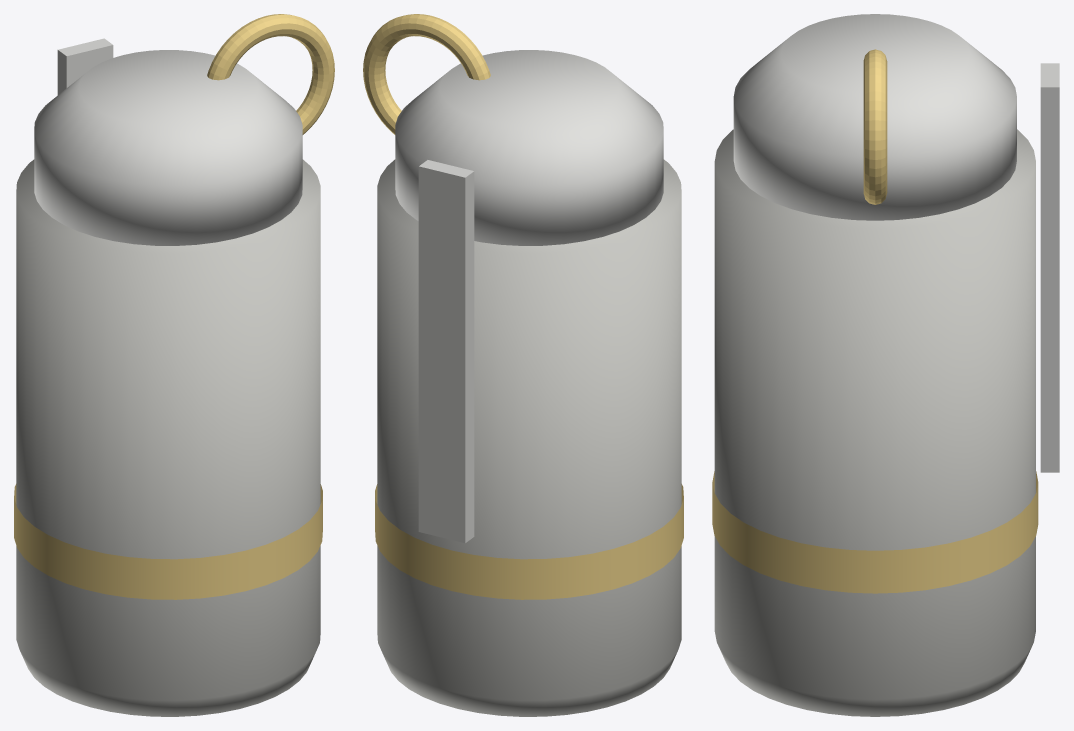
The model's file is smoke-grenade.glb.
3 views of the same model, side by side, from view 1: azimuth 30°, elevation 25°; view 2: azimuth 150°, elevation 25°; view 3: azimuth 270°, elevation 25° (orthographic). The views are drawn at different scales.
Parts seen in each view (by area): view 1: smoke-grenade; view 2: smoke-grenade; view 3: smoke-grenade.
Part boxes in pixels (left/top/right/bottom): smoke-grenade: left=14, top=14, right=334, bottom=716; smoke-grenade: left=363, top=14, right=683, bottom=716; smoke-grenade: left=712, top=14, right=1059, bottom=716.
Bounding box in the file's own units: 0.077 × 0.1515 × 0.0735.
